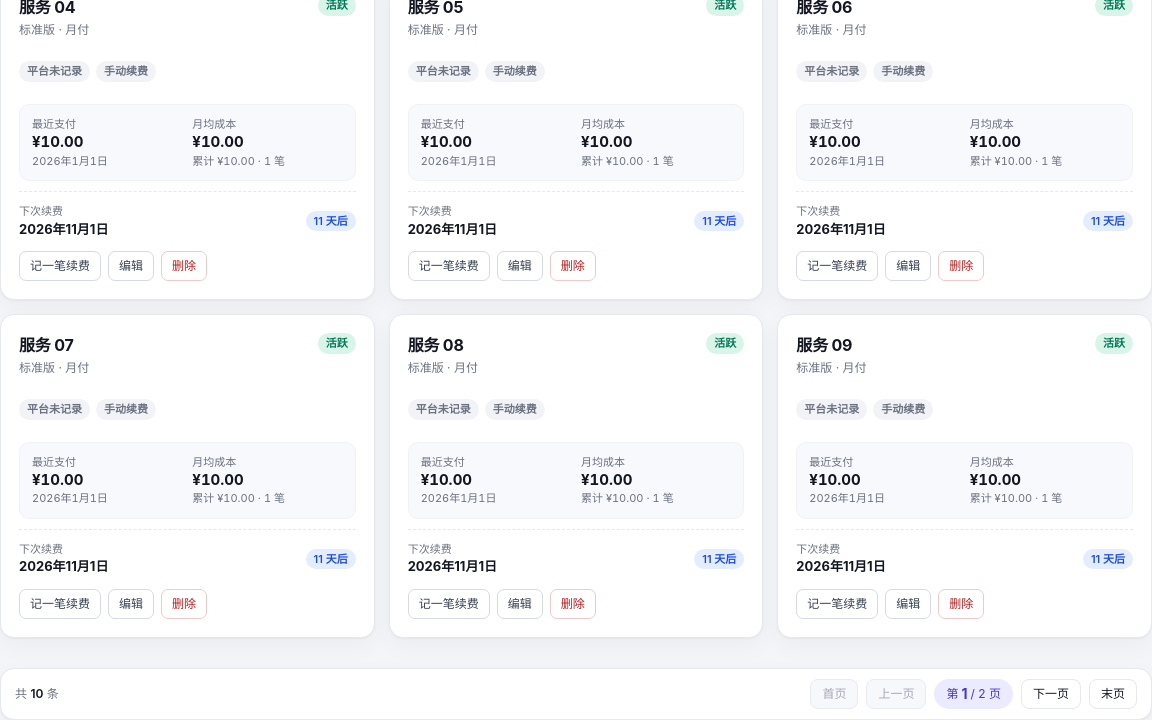
Test: Subscriptions › uses a fixed page size of 9 and hides the page-size selector
(page scrolled)
Expected: the element showing "第 1 / 2 页" is shown, [934,679,1013,709]
Click the button "下一页" at (1051, 694), box [1021,679,1081,709]
(page scrolled)
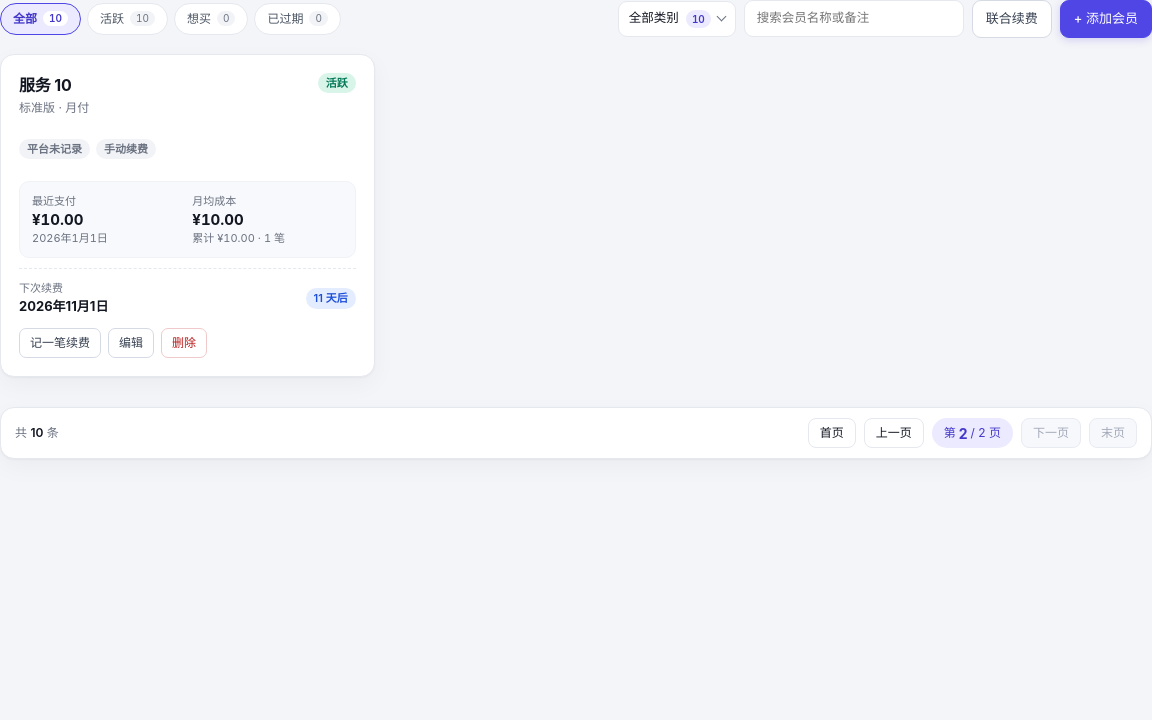
Result: the number of elements with class "sub-card" is 1 at [0,54,375,377]
Result: the element showing "第 2 / 2 页" is shown at [932,418,1013,448]
